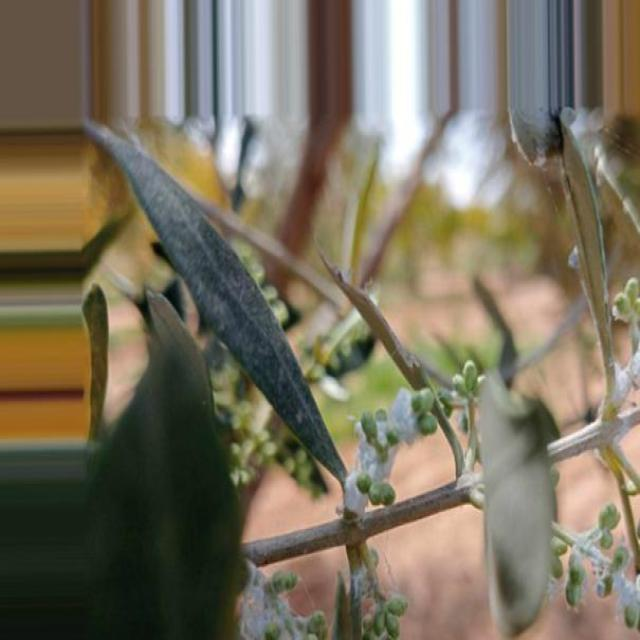Psyllid: (338, 388, 437, 519), (564, 502, 639, 638), (240, 562, 327, 638), (349, 543, 404, 639)
